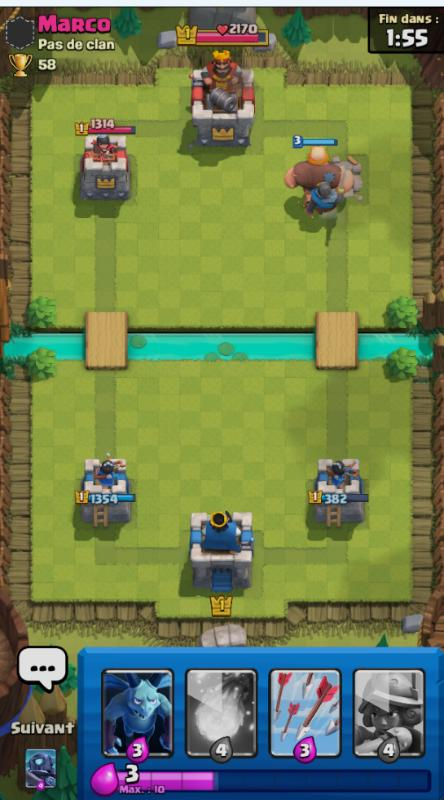chevalier: (306, 177, 344, 218)
geant: (284, 146, 357, 208)
